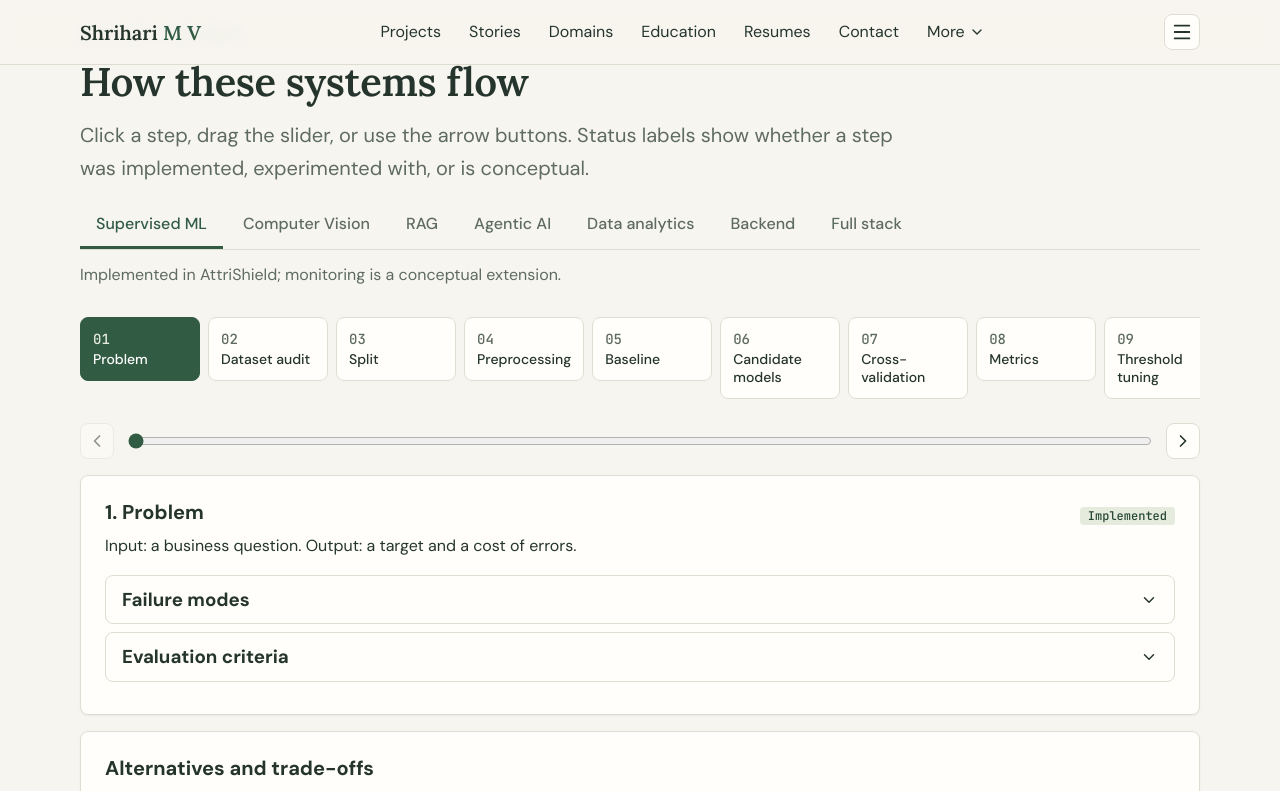
Test: public portfolio › pipeline slider and step buttons change the active step
The width and height of the screenshot is (1280, 791).
(page scrolled)
Expected: the heading "1. Problem" is shown, [105,500,204,525]
Click the button named "Next step".
click(1183, 441)  # box [1166,423,1200,459]
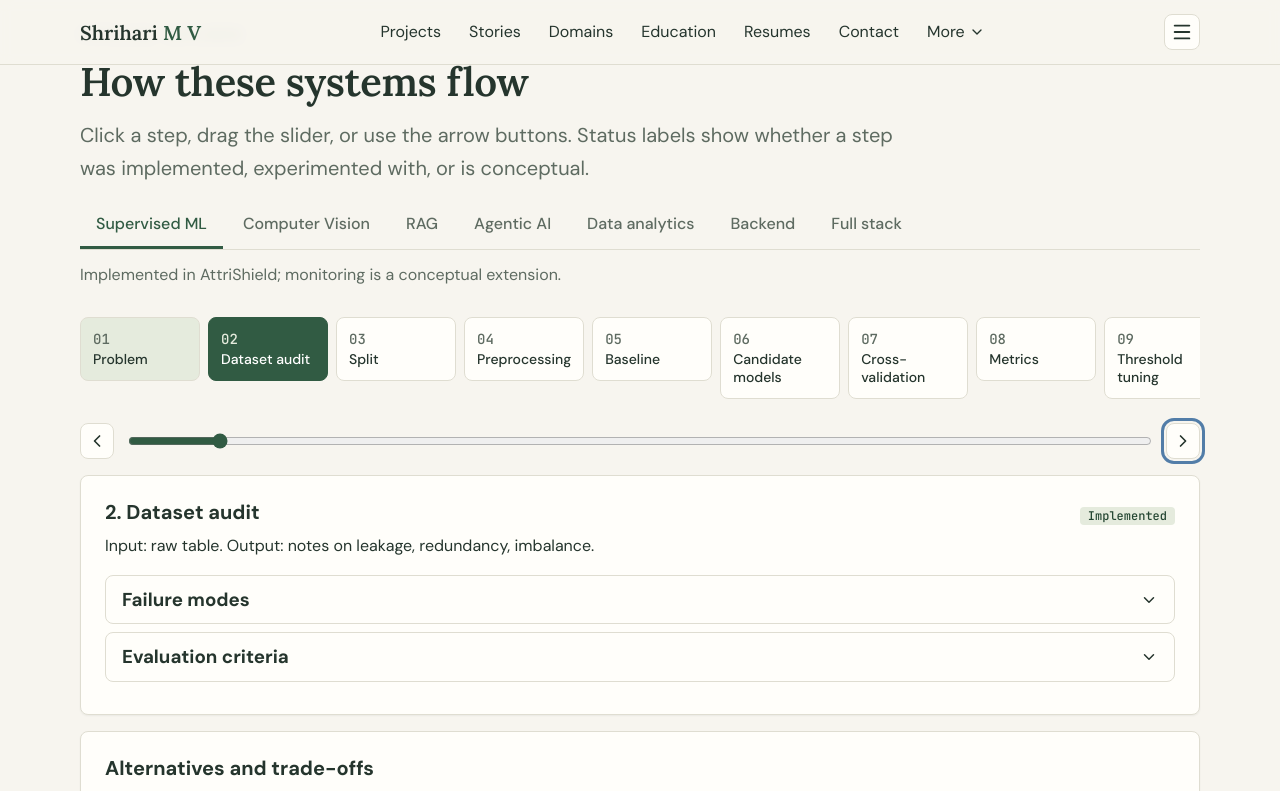
Expected: the heading "2. Dataset audit" is shown, [105,500,260,525]
Click the tab "RAG".
click(422, 225)  # box [390,201,454,249]
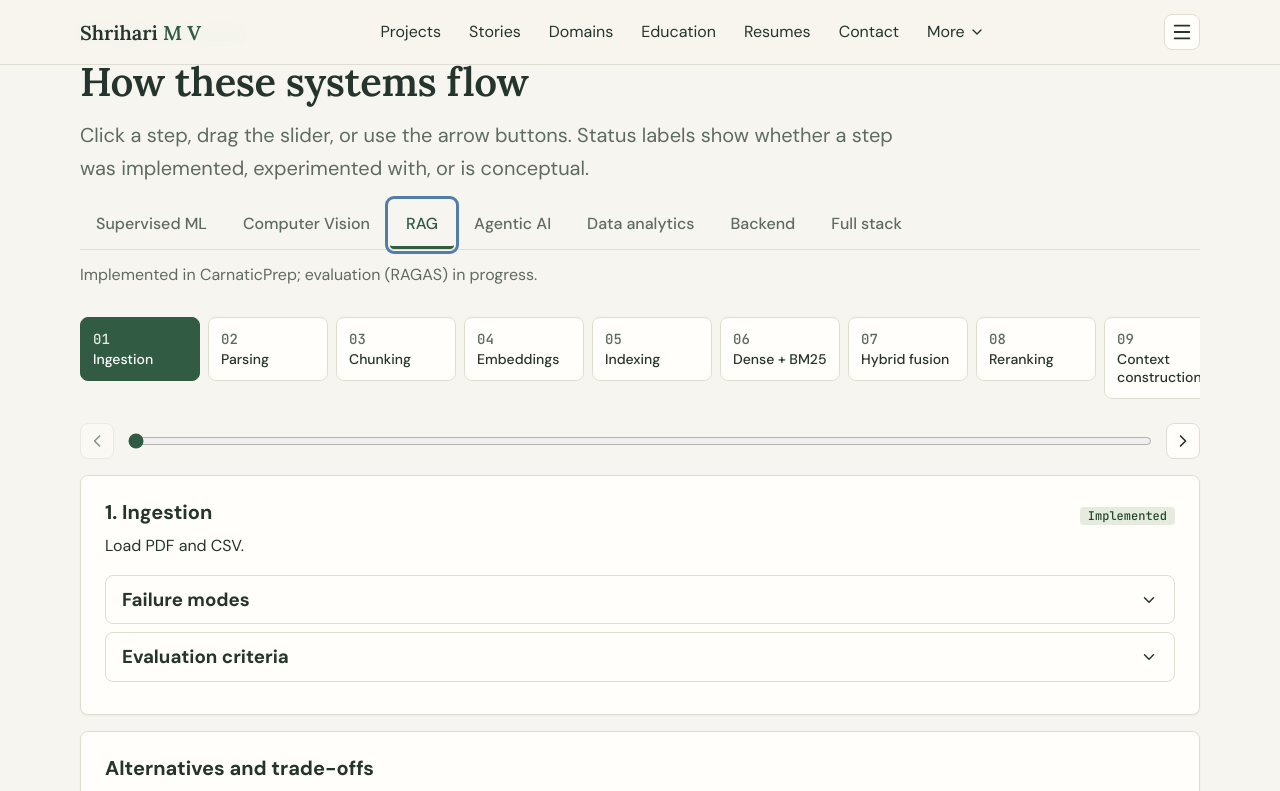
Expected: the heading "1. Ingestion" is shown, [105,500,212,525]
